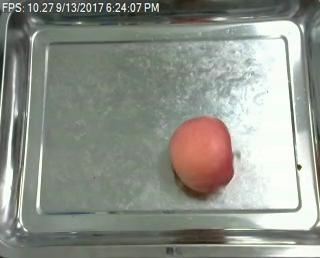apple: (170, 115, 234, 193)
